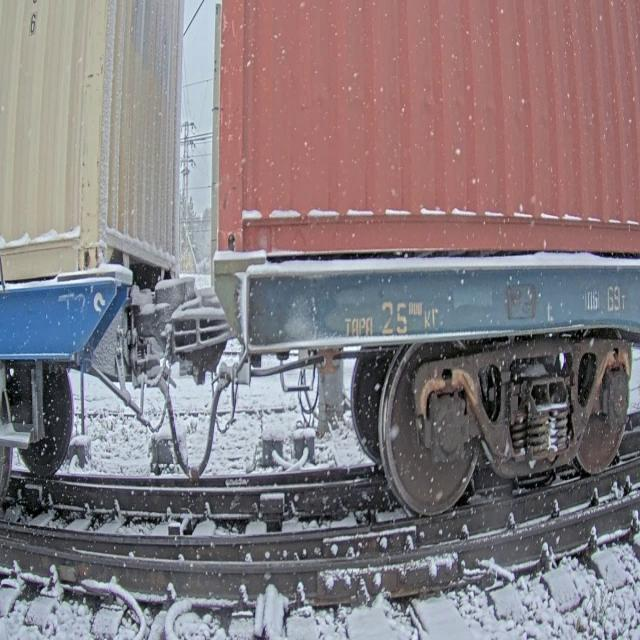container: (215, 0, 640, 256), (0, 0, 190, 286)
flatcar: (206, 247, 640, 532), (0, 266, 168, 507)
